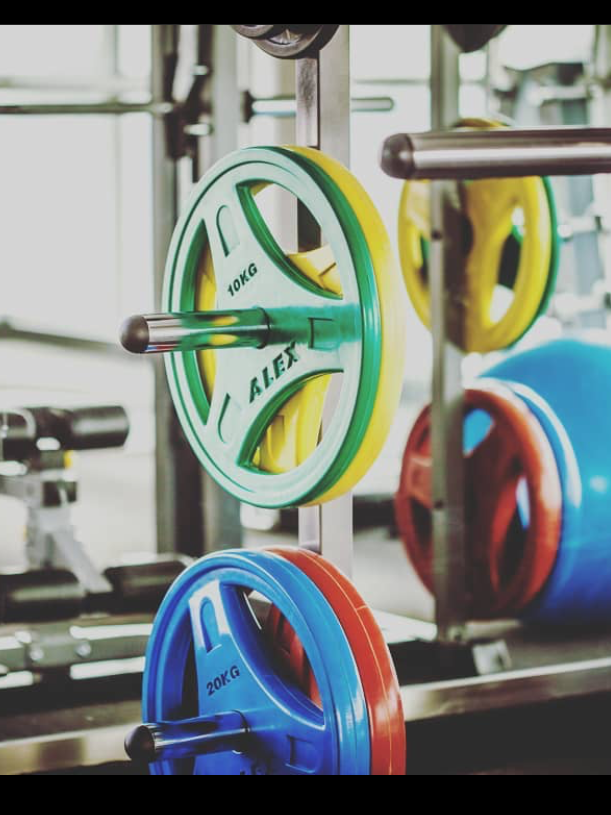weights: (161, 135, 405, 514), (136, 547, 412, 815), (394, 376, 575, 626), (396, 115, 559, 357)
